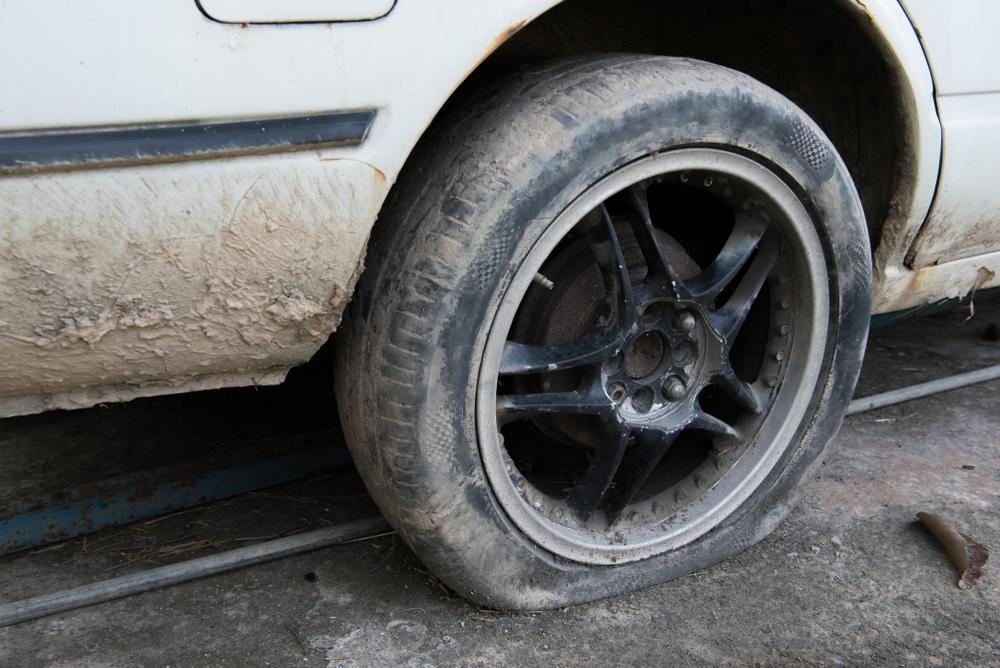tire flat: (338, 56, 872, 612)
